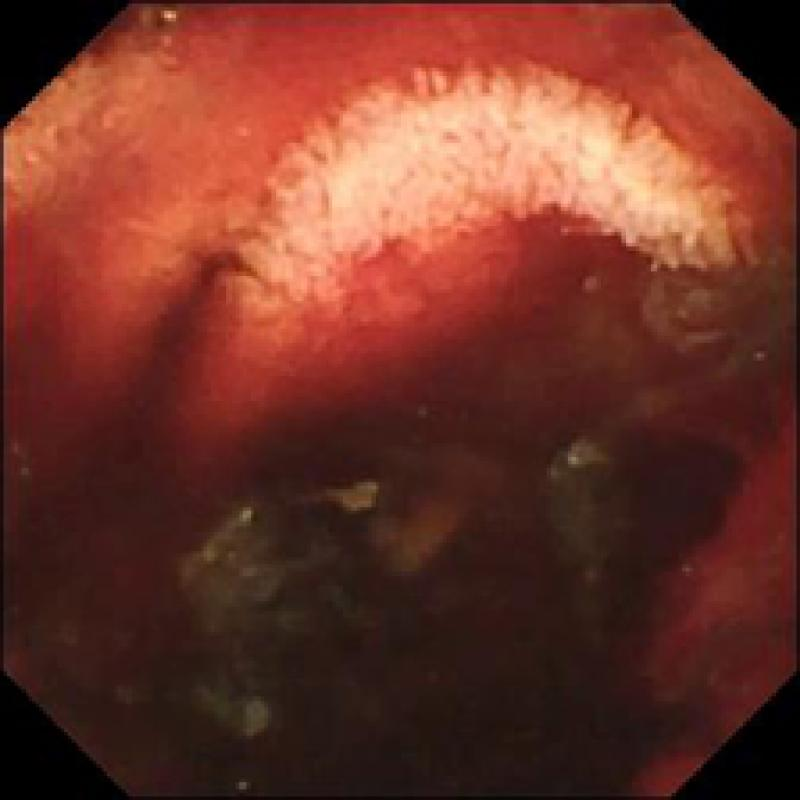bleeding: (171, 0, 800, 775), (8, 234, 138, 480)
